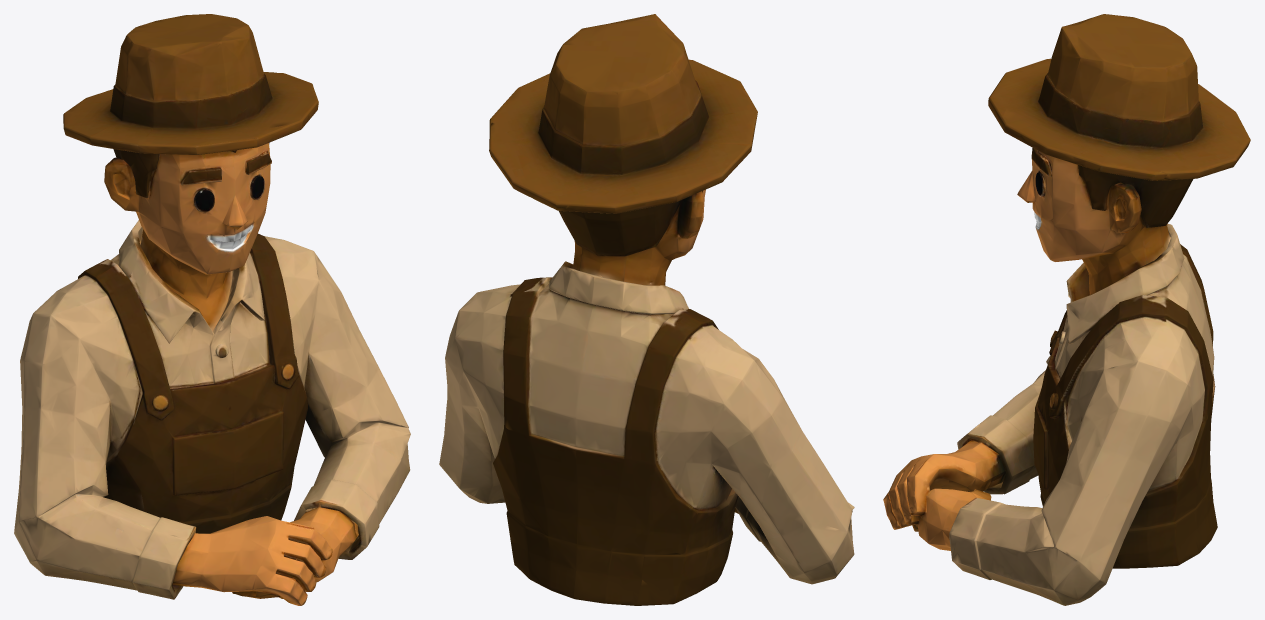
File: villager.glb
The picture shows the model from 3 angles, left to right: view 1: azimuth 30°, elevation 25°; view 2: azimuth 150°, elevation 25°; view 3: azimuth 270°, elevation 25°; orthographic projection. The views are drawn at different scales.
Visible parts, largest first — view 1: node_0; view 2: node_0; view 3: node_0.
Boxes of the visible parts, x1,y1,x2,y2 form: node_0: (14,14,410,605); node_0: (439,14,854,605); node_0: (883,14,1250,605).
Size of the model in its own units: 0.8084 by 1.03 by 0.668.
Materials: 1 (1 with a texture image).
